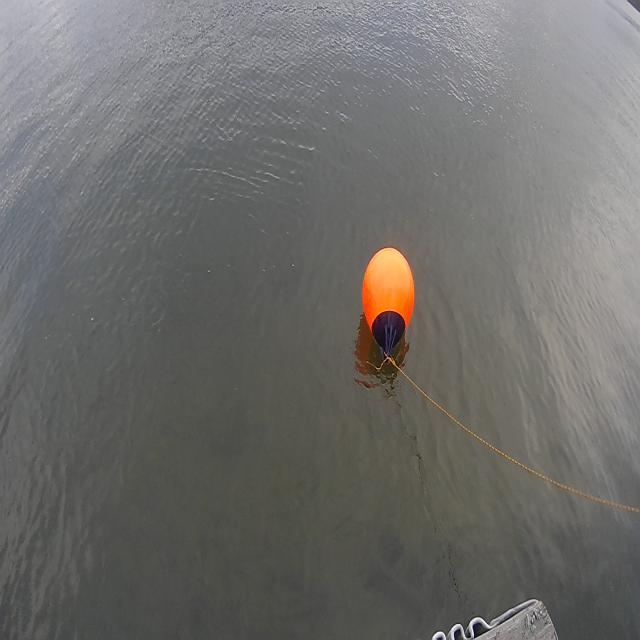Buoy: (355, 241, 419, 376)
